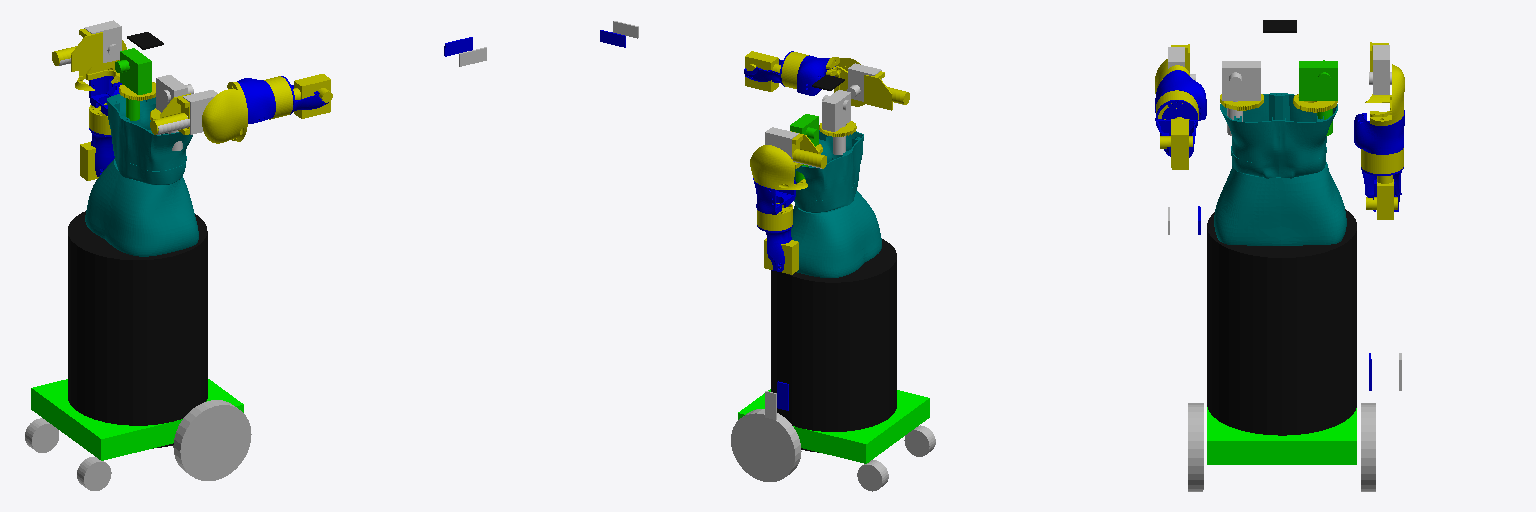
--- Render facts (derived) ---
The picture shows the robot from 3 angles, left to right: view 1: azimuth 30°, elevation 25°; view 2: azimuth 150°, elevation 25°; view 3: azimuth 270°, elevation 25°; orthographic projection.
Robot: robbie — 70 links, 69 joints (11 revolute, 58 fixed); root link base_link; default pose: every joint at zero.
Links seen in each view (by area): view 1: deck_link, waist_bottom, base_link, left_wheel, waist_left_mid, right_shoulder_lift2, left_shoulder_gear, left_shoulder_bracket, waist_right_mid, right_shoulder_mid, right_elbow_gearbox, right_shoulder_lift (+11 smaller); view 2: deck_link, waist_bottom, base_link, right_wheel, left_shoulder_lift2, waist_right_mid, right_shoulder_gear, right_shoulder_bracket, waist_left_mid, right_shoulder_mid, left_shoulder_mid, right_elbow_gearbox (+12 smaller); view 3: deck_link, waist_bottom, base_link, waist_left_mid, waist_right_mid, right_shoulder_gear, left_shoulder_gear, left_shoulder_mid, left_wheel, right_wheel, left_shoulder_lift2, right_elbow_gearbox (+8 smaller).
Link boxes in pixels (x1,y1,x2,y2): deck_link: (68,211,207,448); waist_bottom: (85,158,198,256); base_link: (31,379,243,460); left_wheel: (173,400,251,480); waist_left_mid: (123,118,192,170); right_shoulder_lift2: (202,82,247,143); left_shoulder_gear: (115,48,151,120); left_shoulder_bracket: (52,29,102,71); waist_right_mid: (107,94,167,158); right_shoulder_mid: (237,78,275,123); right_elbow_gearbox: (293,74,332,118); right_shoulder_lift: (156,90,217,134); deck_link: (771,239,896,452); waist_bottom: (791,191,881,277); base_link: (738,389,929,463); right_wheel: (731,409,801,481); left_shoulder_lift2: (750,145,807,189); waist_right_mid: (794,153,849,200); right_shoulder_gear: (822,90,850,154); right_shoulder_bracket: (864,71,909,110); waist_left_mid: (809,130,863,188); right_shoulder_mid: (797,55,835,95); left_shoulder_mid: (753,178,795,214); right_elbow_gearbox: (745,51,780,91); deck_link: (1207,209,1356,435); waist_bottom: (1214,162,1346,245); base_link: (1207,407,1356,464); waist_left_mid: (1220,93,1279,162); waist_right_mid: (1279,93,1337,163); right_shoulder_gear: (1222,61,1260,135); left_shoulder_gear: (1299,60,1337,135); left_shoulder_mid: (1354,110,1404,154); left_wheel: (1188,403,1203,491); right_wheel: (1361,403,1375,491); left_shoulder_lift2: (1365,64,1404,125); right_elbow_gearbox: (1160,117,1192,169).
Size in the robot's own frame: 1.09 by 0.5821 by 1.15 metres.
Meshes: 23 distinct files referenced, 23 mesh visuals loaded (15 binary STL); not drawn: 29 (reference not matched to a file when rendering).

The robot description file, URDF, robot "robbie":
<?xml version="1.0" ?>
<!-- =================================================================================== -->
<!-- |    This document was autogenerated by xacro from robbie7.xacro                  | -->
<!-- |    EDITING THIS FILE BY HAND IS NOT RECOMMENDED                                 | -->
<!-- =================================================================================== -->
<!-- XML namespaces -->
<robot name="robbie" xmlns:controller="http://playerstage.sourceforge.net/gazebo/xmlschema/#controller" xmlns:interface="http://playerstage.sourceforge.net/gazebo/xmlschema/#interface" xmlns:sensor="http://playerstage.sourceforge.net/gazebo/xmlschema/#sensor" xmlns:xacro="http://ros.org/wiki/xacro">
  <link name="base_link">
    <visual>
      <origin rpy="0 0 0" xyz="0 0 .135"/>
      <geometry>
        <box size="0.41 0.35 0.06"/>
      </geometry>
      <material name="green1">
        <color rgba="0 1 0 1.0"/>
      </material>
    </visual>
    <collision>
      <origin rpy="0 0 0" xyz="0 0 .135"/>
      <geometry>
        <box size="0.41 0.35 0.06"/>
      </geometry>
    </collision>
  </link>
  <gazebo reference="base_link">
    <material>Gazebo/FlatBlack</material>
    <selfCollide>false</selfCollide>
    <turnGravityOff>true</turnGravityOff>
  </gazebo>
  <link name="left_wheel">
    <visual>
      <origin rpy="1.57 0 0" xyz="0 0 0"/>
      <geometry>
        <cylinder length="0.035" radius="0.1025"/>
      </geometry>
      <material name="grey1">
        <color rgba="0.75 0.75 0.75 1.0"/>
      </material>
    </visual>
    <collision>
      <origin rpy="1.57 0 0" xyz="0 0 0"/>
      <geometry>
        <cylinder length="0.035" radius="0.1025"/>
      </geometry>
    </collision>
    <inertial>
      <mass value="0.1"/>
      <inertia ixx="0.001" ixy="0.0" ixz="0.0" iyy="0.001" iyz="0.0" izz="0.001"/>
    </inertial>
  </link>
  <gazebo reference="left_wheel">
    <material>Gazebo/Grey</material>
    <selfCollide>false</selfCollide>
    <turnGravityOff>true</turnGravityOff>
  </gazebo>
  <link name="right_wheel">
    <visual>
      <origin rpy="1.57 0 0" xyz="0 0 0"/>
      <geometry>
        <cylinder length="0.035" radius="0.1025"/>
      </geometry>
      <material name="grey1">
        <color rgba="0.75 0.75 0.75 1.0"/>
      </material>
    </visual>
    <collision>
      <origin rpy="1.57 0 0" xyz="0 0 0"/>
      <geometry>
        <cylinder length="0.035" radius="0.1025"/>
      </geometry>
    </collision>
    <inertial>
      <mass value="0.1"/>
      <inertia ixx="0.001" ixy="0.0" ixz="0.0" iyy="0.001" iyz="0.0" izz="0.001"/>
    </inertial>
  </link>
  <gazebo reference="right_wheel">
    <material>Gazebo/Grey</material>
    <selfCollide>false</selfCollide>
    <turnGravityOff>true</turnGravityOff>
  </gazebo>
  <link name="castor_wheel_l">
    <visual>
      <origin rpy="1.57 0 0" xyz="0 0 0"/>
      <geometry>
        <cylinder length="0.035" radius="0.04"/>
      </geometry>
      <material name="grey1">
        <color rgba="0.75 0.75 0.75 1.0"/>
      </material>
    </visual>
    <collision>
      <origin rpy="1.57 0 0" xyz="0 0 0"/>
      <geometry>
        <cylinder length="0.035" radius="0.04"/>
      </geometry>
    </collision>
    <inertial>
      <mass value="0.1"/>
      <inertia ixx="0.001" ixy="0.0" ixz="0.0" iyy="0.001" iyz="0.0" izz="0.001"/>
    </inertial>
  </link>
  <gazebo reference="castor_wheel_l">
    <material>Gazebo/Grey</material>
    <selfCollide>false</selfCollide>
    <turnGravityOff>true</turnGravityOff>
  </gazebo>
  <link name="castor_wheel_r">
    <visual>
      <origin rpy="1.57 0 0" xyz="0 0 0"/>
      <geometry>
        <cylinder length="0.035" radius="0.04"/>
      </geometry>
      <material name="grey1">
        <color rgba="0.75 0.75 0.75 1.0"/>
      </material>
    </visual>
    <collision>
      <origin rpy="1.57 0 0" xyz="0 0 0"/>
      <geometry>
        <cylinder length="0.035" radius="0.04"/>
      </geometry>
    </collision>
    <inertial>
      <mass value="0.1"/>
      <inertia ixx="0.001" ixy="0.0" ixz="0.0" iyy="0.001" iyz="0.0" izz="0.001"/>
    </inertial>
  </link>
  <gazebo reference="castor_wheel_r">
    <material>Gazebo/Grey</material>
    <selfCollide>false</selfCollide>
    <turnGravityOff>true</turnGravityOff>
  </gazebo>
  <link name="deck_link">
    <visual>
      <origin rpy="0 0 0" xyz="0.1 0 0"/>
      <geometry>
        <cylinder length="0.52" radius="0.175"/>
      </geometry>
      <material name="black">
        <color rgba="0.1 0.1 0.1 1.0"/>
      </material>
    </visual>
    <collision>
      <origin rpy="0 0 0" xyz="0.1 0 0"/>
      <geometry>
        <cylinder length="0.52" radius="0.175"/>
      </geometry>
    </collision>
    <inertial>
      <mass value="0.2"/>
      <inertia ixx="0.001" ixy="0.0" ixz="0.0" iyy="0.001" iyz="0.0" izz="0.001"/>
    </inertial>
  </link>
  <gazebo reference="deck_link">
    <material>Gazebo/grey</material>
    <selfCollide>false</selfCollide>
    <turnGravityOff>true</turnGravityOff>
  </gazebo>
  <!-- ##############################   upper torso   ##################333333-->
  <link name="upper_torso">
    <visual>
      <geometry>
        <mesh filename="package://robbie/meshes/upper_torso2.stl" scale="0.001 0.001 0.001"/>
      </geometry>
      <material name="green">
        <color rgba="0.1 0.8 0 0.8"/>
      </material>
      <origin rpy="0 0 1.57" xyz="0 0 0"/>
    </visual>
  </link>
  <link name="waist_bottom">
    <visual>
      <geometry>
        <mesh filename="package://robbie/meshes/bottom torso.stl" scale="0.001 0.001 0.001"/>
      </geometry>
      <material name="cyan3">
        <color rgba="0 0.5 0.5 1.0"/>
      </material>
      <origin rpy="1.57 0 1.57" xyz="-0.12 -0.29 -0.5"/>
    </visual>
  </link>
  <link name="waist_left">
    <visual>
      <geometry>
        <mesh filename="package://robbie/meshes/waist top lower left.stl" scale="0.001 0.001 0.001"/>
      </geometry>
      <material name="cyan3">
        <color rgba="0 0.5 0.5 1.0"/>
      </material>
      <origin rpy="0 3.14 3.14" xyz="0 0 0"/>
    </visual>
  </link>
  <link name="waist_right">
    <visual>
      <geometry>
        <mesh filename="package://robbie/meshes/waist top lower right.stl" scale="0.001 0.001 0.001"/>
      </geometry>
      <material name="cyan3">
        <color rgba="0 0.5 0.5 1.0"/>
      </material>
      <origin rpy="0 3.14 3.14" xyz="0 0 0"/>
    </visual>
  </link>
  <link name="waist_left_mid">
    <visual>
      <geometry>
        <mesh filename="package://robbie/meshes/waist top upper left.stl" scale="0.001 0.001 0.001"/>
      </geometry>
      <material name="cyan3">
        <color rgba="0 0.5 0.5 1.0"/>
      </material>
      <origin rpy="0 3.14 3.14" xyz="0 0 0"/>
    </visual>
  </link>
  <link name="waist_right_mid">
    <visual>
      <geometry>
        <mesh filename="package://robbie/meshes/waist top upper right.stl" scale="0.001 0.001 0.001"/>
      </geometry>
      <material name="cyan3">
        <color rgba="0 0.5 0.5 1.0"/>
      </material>
      <origin rpy="0 3.14 3.14" xyz="0 0 0"/>
    </visual>
  </link>
  <!-- ##############################   right arm ##################333333-->
  <link name="right_shoulder_gear">
    <visual>
      <geometry>
        <mesh filename="package://robbie/meshes/gear_box.stl" scale="0.001 0.001 0.001"/>
      </geometry>
      <material name="OffWhite">
        <color rgba="0.8 0.8 0.8 0.9"/>
      </material>
      <origin rpy="-1.57 0 1.57" xyz="0 0 0"/>
    </visual>
  </link>
  <link name="right_shoulder_pan">
    <visual>
      <geometry>
        <mesh filename="package://robbie/meshes/shoulder_pan_gear.stl" scale="0.001 0.001 0.001"/>
      </geometry>
      <material name="yellow2">
        <color rgba="0.8 0.8 0 1.0"/>
      </material>
      <origin rpy="0 0 -1.57" xyz="-0.05 0.05 0.0"/>
    </visual>
  </link>
  <link name="right_shoulder_tilt">
    <visual>
      <geometry>
        <mesh filename="package://robbie/meshes/elbow_pivot.stl" scale="0.001 0.001 0.001"/>
      </geometry>
      <material name="yellow2">
        <color rgba="0.8 0.8 0 1.0"/>
      </material>
      <origin rpy="0 0 1.57" xyz="-0.045 0.02 -0.03"/>
    </visual>
  </link>
  <link name="right_shoulder_bracket">
    <visual>
      <geometry>
        <mesh filename="package://robbie/meshes/shoulder_lift_bracket.stl" scale="0.001 0.001 0.001"/>
      </geometry>
      <material name="yellow2">
        <color rgba="0.8 0.8 0 1.0"/>
      </material>
      <origin rpy="0 1.57 1.57" xyz="0 0 0"/>
    </visual>
  </link>
  <link name="right_shoulder_lift">
    <visual>
      <geometry>
        <mesh filename="package://robbie/meshes/gear_box.stl" scale="0.001 0.001 0.001"/>
      </geometry>
      <material name="OffWhite">
        <color rgba="0.8 0.8 0.8 0.9"/>
      </material>
      <origin rpy="1.57 -1.57 0" xyz="0 0 0"/>
    </visual>
  </link>
  <link name="right_shoulder_lift2">
    <visual>
      <geometry>
        <mesh filename="package://robbie/meshes/arm_top_left.stl" scale="0.001 0.001 0.001"/>
      </geometry>
      <material name="yellow2">
        <color rgba="0.8 0.8 0 1.0"/>
      </material>
      <origin rpy="0 0 0" xyz="-0.105 0 -0.09"/>
    </visual>
  </link>
  <link name="right_shoulder_mid">
    <visual>
      <geometry>
        <mesh filename="package://robbie/meshes/right_arm _middle front.stl" scale="0.001 0.001 0.001"/>
      </geometry>
      <material name="blue1">
        <color rgba="0 0 0.9 1.0"/>
      </material>
      <origin rpy="0 3.14 0" xyz="0 0 0"/>
    </visual>
  </link>
  <link name="right_shoulder_lower">
    <visual>
      <geometry>
        <mesh filename="package://robbie/meshes/elbow_plug.stl" scale="0.001 0.001 0.001"/>
      </geometry>
      <material name="yellow2">
        <color rgba="0.8 0.8 0 1.0"/>
      </material>
      <origin rpy="0 0 0" xyz="-0.05 -0.05 0"/>
    </visual>
  </link>
  <link name="right_shoulder_elbow">
    <visual>
      <geometry>
        <mesh filename="package://robbie/meshes/right_arm lower top.stl" scale="0.001 0.001 0.001"/>
      </geometry>
      <material name="blue1">
        <color rgba="0 0 0.9 1.0"/>
      </material>
      <origin rpy="0 3.14 0" xyz="0 0 0"/>
    </visual>
  </link>
  <link name="right_elbow_gearbox">
    <visual>
      <geometry>
        <mesh filename="package://robbie/meshes/gear_box.stl" scale="0.001 0.001 0.001"/>
      </geometry>
      <material name="yellow2">
        <color rgba="0.8 0.8 0 1.0"/>
      </material>
      <origin rpy="1.57 0 3.14" xyz="0.06 -0.04 0"/>
    </visual>
  </link>
  <link name="right_elbow">
    <visual>
      <geometry>
        <mesh filename="package://robbie/meshes/elbow_pivot.stl" scale="0.001 0.001 0.001"/>
      </geometry>
      <material name="yellow2">
        <color rgba="0.8 0.8 0 1.0"/>
      </material>
      <origin rpy="3.14 0 0" xyz="0.025 -0.05 0.02"/>
    </visual>
  </link>
  <link name="right_forearm_link">
    <visual>
      <geometry>
        <mesh filename="package://robbie/meshes/fore_arm.stl" scale="0.001 0.001 0.001"/>
      </geometry>
      <material name="yellow2">
        <color rgba="0.8 0.8 0 1.0"/>
      </material>
      <origin rpy="0 -1.57 0" xyz="0 0 0"/>
    </visual>
  </link>
  <!-- wrist_pan_ joint-->
  <link name="wrist_pan_servo">
    <visual>
      <origin rpy="0 0 0" xyz="0 0 0"/>
      <geometry>
        <mesh filename="package://robbie/meshes/ax12_box2.stl" scale="0.001 0.001 0.001"/>
      </geometry>
      <material name="ax12_color">
        <color rgba="0.1 0.1 0.1 1.0"/>
      </material>
    </visual>
    <collision>
      <origin rpy="0 0 0" xyz="0 0 0"/>
      <geometry>
        <!--<box size="0.032 0.038 0.05" />-->
        <mesh filename="package://robbie/meshes/ax12_box2.stl" scale="0.001 0.001 0.001"/>
      </geometry>
    </collision>
    <inertial>
      <mass value="0.055"/>
      <inertia ixx="0.001" ixy="0.0" ixz="0.0" iyy="0.001" iyz="0.0" izz="0.001"/>
    </inertial>
  </link>
  <gazebo reference="wrist_pan_servo">
    <material>Gazebo/FlatBlack</material>
    <selfCollide>false</selfCollide>
    <turnGravityOff>true</turnGravityOff>
  </gazebo>
  <link name="wrist_pan_servo_bracket_f3">
    <visual>
      <origin rpy="1.57 0 0" xyz="0 0.005 0"/>
      <geometry>
        <mesh filename="package://robbie/meshes/F3.stl" scale="0.001 0.001 0.001"/>
      </geometry>
      <material name="grey1">
        <color rgba="0.75 0.75 0.75 1.0"/>
      </material>
      <material name="bracket_color">
        <color rgba="0.9 0.9 0.9 1.0"/>
      </material>
    </visual>
    <collision>
      <origin rpy="1.57 0 0" xyz="0 0.005 0"/>
      <geometry>
        <mesh filename="package://robbie/meshes/F3.stl" scale="0.001 0.001 0.001"/>
      </geometry>
    </collision>
    <inertial>
      <mass value="0.01"/>
      <inertia ixx="0.001" ixy="0.0" ixz="0.0" iyy="0.001" iyz="0.0" izz="0.001"/>
    </inertial>
  </link>
  <gazebo reference="wrist_pan_servo_bracket_f3">
    <material>Gazebo/WhiteEmissive</material>
    <selfCollide>false</selfCollide>
    <turnGravityOff>true</turnGravityOff>
  </gazebo>
  <!-- <xacro:F3_bracket name="wrist_pan_servo_bracket2_f3" xyz="0 0 0" rpy="0 -1.57 0" />-->
  <!-- wrist_tilt joint-->
  <link name="wrist_tilt_servo">
    <visual>
      <origin rpy="-1.57 0 0" xyz="-0.04 0.05 0"/>
      <geometry>
        <mesh filename="package://robbie/meshes/ax12_box2.stl" scale="0.001 0.001 0.001"/>
      </geometry>
      <material name="ax12_color">
        <color rgba="0.1 0.1 0.1 1.0"/>
      </material>
    </visual>
    <collision>
      <origin rpy="-1.57 0 0" xyz="-0.04 0.05 0"/>
      <geometry>
        <!--<box size="0.032 0.038 0.05" />-->
        <mesh filename="package://robbie/meshes/ax12_box2.stl" scale="0.001 0.001 0.001"/>
      </geometry>
    </collision>
    <inertial>
      <mass value="0.055"/>
      <inertia ixx="0.001" ixy="0.0" ixz="0.0" iyy="0.001" iyz="0.0" izz="0.001"/>
    </inertial>
  </link>
  <gazebo reference="wrist_tilt_servo">
    <material>Gazebo/FlatBlack</material>
    <selfCollide>false</selfCollide>
    <turnGravityOff>true</turnGravityOff>
  </gazebo>
  <link name="wrist_tilt_bracket_f2">
    <visual>
      <origin rpy="0 1.57 0" xyz="0 0 0"/>
      <geometry>
        <mesh filename="package://robbie/meshes/F2.stl" scale="0.001 0.001 0.001"/>
      </geometry>
      <material name="bracket_color">
        <color rgba="0.9 0.9 0.9 1.0"/>
      </material>
    </visual>
    <collision>
      <origin rpy="0 1.57 0" xyz="0 0 0"/>
      <geometry>
        <mesh filename="package://robbie/meshes/F2.stl" scale="0.001 0.001 0.001"/>
      </geometry>
    </collision>
    <inertial>
      <mass value="0.02"/>
      <inertia ixx="0.001" ixy="0.0" ixz="0.0" iyy="0.001" iyz="0.0" izz="0.001"/>
    </inertial>
  </link>
  <gazebo reference="wrist_tilt_bracket_f2">
    <material>Gazebo/WhiteEmissive</material>
    <selfCollide>false</selfCollide>
    <turnGravityOff>true</turnGravityOff>
  </gazebo>
  <!--here-->
  <link name="gripper_bracket_f3">
    <visual>
      <origin rpy="1.57 1.57 0" xyz="0 0 0"/>
      <geometry>
        <mesh filename="package://robbie/meshes/F3.stl" scale="0.001 0.001 0.001"/>
      </geometry>
      <material name="grey1">
        <color rgba="0.75 0.75 0.75 1.0"/>
      </material>
      <material name="bracket_color">
        <color rgba="0.9 0.9 0.9 1.0"/>
      </material>
    </visual>
    <collision>
      <origin rpy="1.57 1.57 0" xyz="0 0 0"/>
      <geometry>
        <mesh filename="package://robbie/meshes/F3.stl" scale="0.001 0.001 0.001"/>
      </geometry>
    </collision>
    <inertial>
      <mass value="0.01"/>
      <inertia ixx="0.001" ixy="0.0" ixz="0.0" iyy="0.001" iyz="0.0" izz="0.001"/>
    </inertial>
  </link>
  <gazebo reference="gripper_bracket_f3">
    <material>Gazebo/WhiteEmissive</material>
    <selfCollide>false</selfCollide>
    <turnGravityOff>true</turnGravityOff>
  </gazebo>
  <!-- Gripper_joint-->
  <link name="gripper_servo">
    <visual>
      <origin rpy="1.57 0 0" xyz="0 0 0"/>
      <geometry>
        <mesh filename="package://robbie/meshes/ax12_box2.stl" scale="0.001 0.001 0.001"/>
      </geometry>
      <material name="ax12_color">
        <color rgba="0.1 0.1 0.1 1.0"/>
      </material>
    </visual>
    <collision>
      <origin rpy="1.57 0 0" xyz="0 0 0"/>
      <geometry>
        <!--<box size="0.032 0.038 0.05" />-->
        <mesh filename="package://robbie/meshes/ax12_box2.stl" scale="0.001 0.001 0.001"/>
      </geometry>
    </collision>
    <inertial>
      <mass value="0.055"/>
      <inertia ixx="0.001" ixy="0.0" ixz="0.0" iyy="0.001" iyz="0.0" izz="0.001"/>
    </inertial>
  </link>
  <gazebo reference="gripper_servo">
    <material>Gazebo/FlatBlack</material>
    <selfCollide>false</selfCollide>
    <turnGravityOff>true</turnGravityOff>
  </gazebo>
  <link name="gripper_bracket_f2">
    <visual>
      <origin rpy="0 0 1.57" xyz="0 0 0"/>
      <geometry>
        <mesh filename="package://robbie/meshes/F2.stl" scale="0.001 0.001 0.001"/>
      </geometry>
      <material name="bracket_color">
        <color rgba="0.9 0.9 0.9 1.0"/>
      </material>
    </visual>
    <collision>
      <origin rpy="0 0 1.57" xyz="0 0 0"/>
      <geometry>
        <mesh filename="package://robbie/meshes/F2.stl" scale="0.001 0.001 0.001"/>
      </geometry>
    </collision>
    <inertial>
      <mass value="0.02"/>
      <inertia ixx="0.001" ixy="0.0" ixz="0.0" iyy="0.001" iyz="0.0" izz="0.001"/>
    </inertial>
  </link>
  <gazebo reference="gripper_bracket_f2">
    <material>Gazebo/WhiteEmissive</material>
    <selfCollide>false</selfCollide>
    <turnGravityOff>true</turnGravityOff>
  </gazebo>
  <link name="right_finger_link">
    <visual>
      <origin rpy="1.57 0 1.57" xyz="0 0 0"/>
      <geometry>
        <box size="-0.08 0.005 0.035"/>
      </geometry>
      <material name="grey3">
        <color rgba="0.8 0.8 0.8 1.0"/>
      </material>
    </visual>
    <collision>
      <origin rpy="1.57 0 1.57" xyz="0 0 0"/>
      <geometry>
        <box size="-0.08 0.005 0.035"/>
      </geometry>
    </collision>
  </link>
  <gazebo reference="right_finger_link">
    <material>Gazebo/FlatBlack</material>
    <selfCollide>false</selfCollide>
    <turnGravityOff>true</turnGravityOff>
  </gazebo>
  <link name="left_finger_link">
    <visual>
      <origin rpy="1.57 0 1.57" xyz="0 0 0"/>
      <geometry>
        <box size="0.08 0.005 0.035"/>
      </geometry>
      <material name="blue1">
        <color rgba="0 0 0.9 1.0"/>
      </material>
    </visual>
    <collision>
      <origin rpy="1.57 0 1.57" xyz="0 0 0"/>
      <geometry>
        <box size="0.08 0.005 0.035"/>
      </geometry>
    </collision>
  </link>
  <gazebo reference="left_finger_link">
    <material>Gazebo/FlatBlack</material>
    <selfCollide>false</selfCollide>
    <turnGravityOff>true</turnGravityOff>
  </gazebo>
  <!--##########################left arm#############################-->
  <link name="left_shoulder_gear">
    <visual>
      <geometry>
        <mesh filename="package://robbie/meshes/gear_box.stl" scale="0.001 0.001 0.001"/>
      </geometry>
      <material name="green">
        <color rgba="0.1 0.8 0 0.8"/>
      </material>
      <origin rpy="-1.57 0 -1.57" xyz="0 0 0"/>
    </visual>
  </link>
  <link name="left_shoulder_pan">
    <visual>
      <geometry>
        <mesh filename="package://robbie/meshes/shoulder_pan_gear.stl" scale="0.001 0.001 0.001"/>
      </geometry>
      <material name="yellow2">
        <color rgba="0.8 0.8 0 1.0"/>
      </material>
      <origin rpy="0 0 -1.57" xyz="-0.05 0.05 0.0"/>
    </visual>
  </link>
  <link name="left_shoulder_tilt">
    <visual>
      <geometry>
        <mesh filename="package://robbie/meshes/elbow_pivot.stl" scale="0.001 0.001 0.001"/>
      </geometry>
      <material name="yellow2">
        <color rgba="0.8 0.8 0 1.0"/>
      </material>
      <origin rpy="0 0 -1.57" xyz="0.045 -0.02 -0.03"/>
    </visual>
  </link>
  <link name="left_shoulder_bracket">
    <visual>
      <geometry>
        <mesh filename="package://robbie/meshes/shoulder_lift_bracket_left.stl" scale="0.001 0.001 0.001"/>
      </geometry>
      <material name="yellow2">
        <color rgba="0.8 0.8 0 1.0"/>
      </material>
      <origin rpy="0 0 1.57" xyz="0 0 0"/>
    </visual>
  </link>
  <link name="left_shoulder_lift">
    <visual>
      <geometry>
        <mesh filename="package://robbie/meshes/gear_box.stl" scale="0.001 0.001 0.001"/>
      </geometry>
      <material name="OffWhite">
        <color rgba="0.8 0.8 0.8 0.9"/>
      </material>
      <origin rpy="1.57 -1.57 0" xyz="0 0 0"/>
    </visual>
  </link>
  <link name="left_shoulder_lift2">
    <visual>
      <geometry>
        <mesh filename="package://robbie/meshes/left_top_shoulder.stl" scale="0.001 0.001 0.001"/>
      </geometry>
      <material name="yellow2">
        <color rgba="0.8 0.8 0 1.0"/>
      </material>
      <origin rpy="0 0 3.14" xyz="0.08 0.07 -0.095"/>
    </visual>
  </link>
  <link name="left_shoulder_mid">
    <visual>
      <geometry>
        <mesh filename="package://robbie/meshes/left_mid_front.stl" scale="0.001 0.001 0.001"/>
      </geometry>
      <material name="blue1">
        <color rgba="0 0 0.9 1.0"/>
      </material>
      <origin rpy="0 3.14 3.14" xyz="0 0 0"/>
    </visual>
  </link>
  <link name="left_shoulder_lower">
    <visual>
      <geometry>
        <mesh filename="package://robbie/meshes/elbow_plug.stl" scale="0.001 0.001 0.001"/>
      </geometry>
      <material name="yellow2">
        <color rgba="0.8 0.8 0 1.0"/>
      </material>
      <origin rpy="0 0 0" xyz="-0.05 -0.05 0"/>
    </visual>
  </link>
  <link name="left_shoulder_elbow">
    <visual>
      <geometry>
        <mesh filename="package://robbie/meshes/right_arm lower top.stl" scale="0.001 0.001 0.001"/>
      </geometry>
      <material name="blue1">
        <color rgba="0 0 0.9 1.0"/>
      </material>
      <origin rpy="0 3.14 0" xyz="0 0 0"/>
    </visual>
  </link>
  <link name="left_elbow_gearbox">
    <visual>
      <geometry>
        <mesh filename="package://robbie/meshes/gear_box.stl" scale="0.001 0.001 0.001"/>
      </geometry>
      <material name="yellow2">
        <color rgba="0.8 0.8 0 1.0"/>
      </material>
      <origin rpy="1.57 0 3.14" xyz="0.06 -0.04 0"/>
    </visual>
  </link>
  <link name="left_elbow">
    <visual>
      <geometry>
        <mesh filename="package://robbie/meshes/elbow_pivot.stl" scale="0.001 0.001 0.001"/>
      </geometry>
      <material name="yellow2">
        <color rgba="0.8 0.8 0 1.0"/>
      </material>
      <origin rpy="3.14 0 0" xyz="0.025 -0.05 0.02"/>
    </visual>
  </link>
  <link name="left_forearm_link">
    <visual>
      <geometry>
        <mesh filename="package://robbie/meshes/fore_arm.stl" scale="0.001 0.001 0.001"/>
      </geometry>
      <material name="yellow2">
        <color rgba="0.8 0.8 0 1.0"/>
      </material>
      <origin rpy="0 -1.57 0" xyz="0 0 0"/>
    </visual>
  </link>
  <!-- left_wrist_pan_ joint-->
  <link name="left_wrist_pan_servo">
    <visual>
      <origin rpy="0 0 0" xyz="0 0 0"/>
      <geometry>
        <mesh filename="package://robbie/meshes/ax12_box2.stl" scale="0.001 0.001 0.001"/>
      </geometry>
      <material name="ax12_color">
        <color rgba="0.1 0.1 0.1 1.0"/>
      </material>
    </visual>
    <collision>
      <origin rpy="0 0 0" xyz="0 0 0"/>
      <geometry>
        <!--<box size="0.032 0.038 0.05" />-->
        <mesh filename="package://robbie/meshes/ax12_box2.stl" scale="0.001 0.001 0.001"/>
      </geometry>
    </collision>
    <inertial>
      <mass value="0.055"/>
      <inertia ixx="0.001" ixy="0.0" ixz="0.0" iyy="0.001" iyz="0.0" izz="0.001"/>
    </inertial>
  </link>
  <gazebo reference="left_wrist_pan_servo">
    <material>Gazebo/FlatBlack</material>
    <selfCollide>false</selfCollide>
    <turnGravityOff>true</turnGravityOff>
  </gazebo>
  <link name="left_wrist_pan_servo_bracket_f3">
    <visual>
      <origin rpy="1.57 0 0" xyz="0 0.005 0"/>
      <geometry>
        <mesh filename="package://robbie/meshes/F3.stl" scale="0.001 0.001 0.001"/>
      </geometry>
      <material name="grey1">
        <color rgba="0.75 0.75 0.75 1.0"/>
      </material>
      <material name="bracket_color">
        <color rgba="0.9 0.9 0.9 1.0"/>
      </material>
    </visual>
    <collision>
      <origin rpy="1.57 0 0" xyz="0 0.005 0"/>
      <geometry>
        <mesh filename="package://robbie/meshes/F3.stl" scale="0.001 0.001 0.001"/>
      </geometry>
    </collision>
    <inertial>
      <mass value="0.01"/>
      <inertia ixx="0.001" ixy="0.0" ixz="0.0" iyy="0.001" iyz="0.0" izz="0.001"/>
    </inertial>
  </link>
  <gazebo reference="left_wrist_pan_servo_bracket_f3">
    <material>Gazebo/WhiteEmissive</material>
    <selfCollide>false</selfCollide>
    <turnGravityOff>true</turnGravityOff>
  </gazebo>
  <!-- <xacro:F3_bracket name="left_wrist_pan_servo_bracket2_f3" xyz="0 0 0" rpy="0 -1.57 0" />-->
  <!-- left_wrist_tilt joint-->
  <link name="left_wrist_tilt_servo">
    <visual>
      <origin rpy="-1.57 0 0" xyz="-0.04 0.05 0"/>
      <geometry>
        <mesh filename="package://robbie/meshes/ax12_box2.stl" scale="0.001 0.001 0.001"/>
      </geometry>
      <material name="ax12_color">
        <color rgba="0.1 0.1 0.1 1.0"/>
      </material>
    </visual>
    <collision>
      <origin rpy="-1.57 0 0" xyz="-0.04 0.05 0"/>
      <geometry>
        <!--<box size="0.032 0.038 0.05" />-->
        <mesh filename="package://robbie/meshes/ax12_box2.stl" scale="0.001 0.001 0.001"/>
      </geometry>
    </collision>
    <inertial>
      <mass value="0.055"/>
      <inertia ixx="0.001" ixy="0.0" ixz="0.0" iyy="0.001" iyz="0.0" izz="0.001"/>
    </inertial>
  </link>
  <gazebo reference="left_wrist_tilt_servo">
    <material>Gazebo/FlatBlack</material>
    <selfCollide>false</selfCollide>
    <turnGravityOff>true</turnGravityOff>
  </gazebo>
  <link name="left_wrist_tilt_bracket_f2">
    <visual>
      <origin rpy="-1.57 0 0" xyz="0 0 0"/>
      <geometry>
        <mesh filename="package://robbie/meshes/F2.stl" scale="0.001 0.001 0.001"/>
      </geometry>
      <material name="bracket_color">
        <color rgba="0.9 0.9 0.9 1.0"/>
      </material>
    </visual>
    <collision>
      <origin rpy="-1.57 0 0" xyz="0 0 0"/>
      <geometry>
        <mesh filename="package://robbie/meshes/F2.stl" scale="0.001 0.001 0.001"/>
      </geometry>
    </collision>
    <inertial>
      <mass value="0.02"/>
      <inertia ixx="0.001" ixy="0.0" ixz="0.0" iyy="0.001" iyz="0.0" izz="0.001"/>
    </inertial>
  </link>
  <gazebo reference="left_wrist_tilt_bracket_f2">
    <material>Gazebo/WhiteEmissive</material>
    <selfCollide>false</selfCollide>
    <turnGravityOff>true</turnGravityOff>
  </gazebo>
  <link name="left_gripper_bracket_f3">
    <visual>
      <origin rpy="1.57 1.57 0" xyz="0 0 0"/>
      <geometry>
        <mesh filename="package://robbie/meshes/F3.stl" scale="0.001 0.001 0.001"/>
      </geometry>
      <material name="grey1">
        <color rgba="0.75 0.75 0.75 1.0"/>
      </material>
      <material name="bracket_color">
        <color rgba="0.9 0.9 0.9 1.0"/>
      </material>
    </visual>
    <collision>
      <origin rpy="1.57 1.57 0" xyz="0 0 0"/>
      <geometry>
        <mesh filename="package://robbie/meshes/F3.stl" scale="0.001 0.001 0.001"/>
      </geometry>
    </collision>
    <inertial>
      <mass value="0.01"/>
      <inertia ixx="0.001" ixy="0.0" ixz="0.0" iyy="0.001" iyz="0.0" izz="0.001"/>
    </inertial>
  </link>
  <gazebo reference="left_gripper_bracket_f3">
    <material>Gazebo/WhiteEmissive</material>
    <selfCollide>false</selfCollide>
    <turnGravityOff>true</turnGravityOff>
  </gazebo>
  <!-- left_Gripper_joint-->
  <link name="left_gripper_servo">
    <visual>
      <origin rpy="0 0 -1.57" xyz="0 0 0"/>
      <geometry>
        <mesh filename="package://robbie/meshes/ax12_box2.stl" scale="0.001 0.001 0.001"/>
      </geometry>
      <material name="ax12_color">
        <color rgba="0.1 0.1 0.1 1.0"/>
      </material>
    </visual>
    <collision>
      <origin rpy="0 0 -1.57" xyz="0 0 0"/>
      <geometry>
        <!--<box size="0.032 0.038 0.05" />-->
        <mesh filename="package://robbie/meshes/ax12_box2.stl" scale="0.001 0.001 0.001"/>
      </geometry>
    </collision>
    <inertial>
      <mass value="0.055"/>
      <inertia ixx="0.001" ixy="0.0" ixz="0.0" iyy="0.001" iyz="0.0" izz="0.001"/>
    </inertial>
  </link>
  <gazebo reference="left_gripper_servo">
    <material>Gazebo/FlatBlack</material>
    <selfCollide>false</selfCollide>
    <turnGravityOff>true</turnGravityOff>
  </gazebo>
  <link name="left_gripper_bracket_f2">
    <visual>
      <origin rpy="0 0 1.57" xyz="0 0 0"/>
      <geometry>
        <mesh filename="package://robbie/meshes/F2.stl" scale="0.001 0.001 0.001"/>
      </geometry>
      <material name="bracket_color">
        <color rgba="0.9 0.9 0.9 1.0"/>
      </material>
    </visual>
    <collision>
      <origin rpy="0 0 1.57" xyz="0 0 0"/>
      <geometry>
        <mesh filename="package://robbie/meshes/F2.stl" scale="0.001 0.001 0.001"/>
      </geometry>
    </collision>
    <inertial>
      <mass value="0.02"/>
      <inertia ixx="0.001" ixy="0.0" ixz="0.0" iyy="0.001" iyz="0.0" izz="0.001"/>
    </inertial>
  </link>
  <gazebo reference="left_gripper_bracket_f2">
    <material>Gazebo/WhiteEmissive</material>
    <selfCollide>false</selfCollide>
    <turnGravityOff>true</turnGravityOff>
  </gazebo>
  <link name="left_right_finger_link">
    <visual>
      <origin rpy="1.57 0 1.57" xyz="0 0 0"/>
      <geometry>
        <box size="-0.08 0.005 0.035"/>
      </geometry>
      <material name="grey3">
        <color rgba="0.8 0.8 0.8 1.0"/>
      </material>
    </visual>
    <collision>
      <origin rpy="1.57 0 1.57" xyz="0 0 0"/>
      <geometry>
        <box size="-0.08 0.005 0.035"/>
      </geometry>
    </collision>
  </link>
  <gazebo reference="left_right_finger_link">
    <material>Gazebo/FlatBlack</material>
    <selfCollide>false</selfCollide>
    <turnGravityOff>true</turnGravityOff>
  </gazebo>
  <link name="left_left_finger_link">
    <visual>
      <origin rpy="1.57 0 1.57" xyz="0 0 0"/>
      <geometry>
        <box size="0.08 0.005 0.035"/>
      </geometry>
      <material name="blue1">
        <color rgba="0 0 0.9 1.0"/>
      </material>
    </visual>
    <collision>
      <origin rpy="1.57 0 1.57" xyz="0 0 0"/>
      <geometry>
        <box size="0.08 0.005 0.035"/>
      </geometry>
    </collision>
  </link>
  <gazebo reference="left_left_finger_link">
    <material>Gazebo/FlatBlack</material>
    <selfCollide>false</selfCollide>
    <turnGravityOff>true</turnGravityOff>
  </gazebo>
  <!-- head details-->
  <link name="head_tilt_bracket">
    <visual>
      <origin rpy="0 3.1415 0" xyz="0 0 0"/>
      <geometry>
        <mesh filename="package://robbie/meshes/F2.stl" scale="0.001 0.001 0.001"/>
      </geometry>
      <material name="bracket_color">
        <color rgba="0.9 0.9 0.9 1.0"/>
      </material>
    </visual>
    <collision>
      <origin rpy="0 3.1415 0" xyz="0 0 0"/>
      <geometry>
        <mesh filename="package://robbie/meshes/F2.stl" scale="0.001 0.001 0.001"/>
      </geometry>
    </collision>
    <inertial>
      <mass value="0.02"/>
      <inertia ixx="0.001" ixy="0.0" ixz="0.0" iyy="0.001" iyz="0.0" izz="0.001"/>
    </inertial>
  </link>
  <gazebo reference="head_tilt_bracket">
    <material>Gazebo/WhiteEmissive</material>
    <selfCollide>false</selfCollide>
    <turnGravityOff>true</turnGravityOff>
  </gazebo>
  <link name="head_tilt_link">
    <visual>
      <origin rpy="3.1415 0 0" xyz="0 0 0"/>
      <geometry>
        <mesh filename="package://robbie/meshes/ax12_box2.stl" scale="0.001 0.001 0.001"/>
      </geometry>
      <material name="ax12_color">
        <color rgba="0.1 0.1 0.1 1.0"/>
      </material>
    </visual>
    <collision>
      <origin rpy="3.1415 0 0" xyz="0 0 0"/>
      <geometry>
        <!--<box size="0.032 0.038 0.05" />-->
        <mesh filename="package://robbie/meshes/ax12_box2.stl" scale="0.001 0.001 0.001"/>
      </geometry>
    </collision>
    <inertial>
      <mass value="0.055"/>
      <inertia ixx="0.001" ixy="0.0" ixz="0.0" iyy="0.001" iyz="0.0" izz="0.001"/>
    </inertial>
  </link>
  <gazebo reference="head_tilt_link">
    <material>Gazebo/FlatBlack</material>
    <selfCollide>false</selfCollide>
    <turnGravityOff>true</turnGravityOff>
  </gazebo>
  <link name="head_pan_bracket">
    <visual>
      <origin rpy="0 0 0" xyz="0 0 0"/>
      <geometry>
        <mesh filename="package://robbie/meshes/F3.stl" scale="0.001 0.001 0.001"/>
      </geometry>
      <material name="grey1">
        <color rgba="0.75 0.75 0.75 1.0"/>
      </material>
      <material name="bracket_color">
        <color rgba="0.9 0.9 0.9 1.0"/>
      </material>
    </visual>
    <collision>
      <origin rpy="0 0 0" xyz="0 0 0"/>
      <geometry>
        <mesh filename="package://robbie/meshes/F3.stl" scale="0.001 0.001 0.001"/>
      </geometry>
    </collision>
    <inertial>
      <mass value="0.01"/>
      <inertia ixx="0.001" ixy="0.0" ixz="0.0" iyy="0.001" iyz="0.0" izz="0.001"/>
    </inertial>
  </link>
  <gazebo reference="head_pan_bracket">
    <material>Gazebo/WhiteEmissive</material>
    <selfCollide>false</selfCollide>
    <turnGravityOff>true</turnGravityOff>
  </gazebo>
  <link name="head_pan_link">
    <visual>
      <origin rpy=" 1.57 0 1.57" xyz="0 0 0"/>
      <geometry>
        <mesh filename="package://robbie/meshes/ax12_box2.stl" scale="0.001 0.001 0.001"/>
      </geometry>
      <material name="ax12_color">
        <color rgba="0.1 0.1 0.1 1.0"/>
      </material>
    </visual>
    <collision>
      <origin rpy=" 1.57 0 1.57" xyz="0 0 0"/>
      <geometry>
        <!--<box size="0.032 0.038 0.05" />-->
        <mesh filename="package://robbie/meshes/ax12_box2.stl" scale="0.001 0.001 0.001"/>
      </geometry>
    </collision>
    <inertial>
      <mass value="0.055"/>
      <inertia ixx="0.001" ixy="0.0" ixz="0.0" iyy="0.001" iyz="0.0" izz="0.001"/>
    </inertial>
  </link>
  <gazebo reference="head_pan_link">
    <material>Gazebo/FlatBlack</material>
    <selfCollide>false</selfCollide>
    <turnGravityOff>true</turnGravityOff>
  </gazebo>
  <link name="neck_link">
    <visual>
      <origin rpy="1.57 0 -1.570" xyz="0 0 0"/>
      <geometry>
        <mesh filename="package://robbie/meshes/F3.stl" scale="0.001 0.001 0.001"/>
      </geometry>
      <material name="grey1">
        <color rgba="0.75 0.75 0.75 1.0"/>
      </material>
      <material name="bracket_color">
        <color rgba="0.9 0.9 0.9 1.0"/>
      </material>
    </visual>
    <collision>
      <origin rpy="1.57 0 -1.570" xyz="0 0 0"/>
      <geometry>
        <mesh filename="package://robbie/meshes/F3.stl" scale="0.001 0.001 0.001"/>
      </geometry>
    </collision>
    <inertial>
      <mass value="0.01"/>
      <inertia ixx="0.001" ixy="0.0" ixz="0.0" iyy="0.001" iyz="0.0" izz="0.001"/>
    </inertial>
  </link>
  <gazebo reference="neck_link">
    <material>Gazebo/WhiteEmissive</material>
    <selfCollide>false</selfCollide>
    <turnGravityOff>true</turnGravityOff>
  </gazebo>
  <link name="head_base_link">
    <visual>
      <origin rpy="0 0 0" xyz="0 0 0"/>
      <geometry>
        <box size="0.06 0.08 0.005"/>
      </geometry>
      <material name="black">
        <color rgba="0.1 0.1 0.1 1.0"/>
      </material>
    </visual>
    <collision>
      <origin rpy="0 0 0" xyz="0 0 0"/>
      <geometry>
        <box size="0.06 0.08 0.005"/>
      </geometry>
    </collision>
  </link>
  <gazebo reference="head_base_link">
    <material>Gazebo/FlatBlack</material>
    <selfCollide>false</selfCollide>
    <turnGravityOff>true</turnGravityOff>
  </gazebo>
  <link name="head_link">
    <visual>
      <geometry>
        <mesh filename="package://robbie/meshes/head.stl" scale="0.001 0.001 0.001"/>
      </geometry>
      <material name="grey1">
        <color rgba="0.75 0.75 0.75 1.0"/>
      </material>
      <origin rpy="1.57 0 1.57" xyz="0 0 0"/>
    </visual>
  </link>
  <link name="head_link_fake">
    <inertial>
      <mass value="0.0001"/>
      <origin xyz="0 0 0"/>
      <inertia ixx="0.0001" ixy="0.0" ixz="0.0" iyy="0.0001" iyz="0.0" izz="0.0001"/>
    </inertial>
  </link>
  <link name="kinect_link">
    <inertial>
      <mass value="1.0"/>
      <origin xyz="0 0 0"/>
      <inertia ixx="1.0" ixy="0.0" ixz="0.0" iyy="1.0" iyz="0.0" izz="1.0"/>
    </inertial>
    <visual>
      <origin rpy="0 0 0" xyz=" 0 0 0 "/>
      <geometry>
        <mesh filename="package://robbie/meshes/kinect.stl" scale="0.001 0.001 0.001"/>
      </geometry>
      <material name="ax12_color">
        <color rgba="0.1 0.1 0.1 1.0"/>
      </material>
    </visual>
    <collision>
      <origin rpy="0 0 0" xyz="0 0 0"/>
      <geometry>
        <mesh filename="package://robbie/meshes/kinect.stl" scale="0.001 0.001 0.001"/>
      </geometry>
    </collision>
  </link>
  <link name="head_cam_link">
    <inertial>
      <mass value="1.0"/>
      <origin xyz="0 0 0"/>
      <inertia ixx="1.0" ixy="0.0" ixz="0.0" iyy="1.0" iyz="0.0" izz="1.0"/>
    </inertial>
    <visual>
      <origin rpy="0 0 0" xyz=" 0 0 0 "/>
      <geometry>
        <mesh filename="package://robbie/meshes/kinect.stl" scale="0.001 0.001 0.001"/>
      </geometry>
      <material name="grey3">
        <color rgba="0.8 0.8 0.8 1.0"/>
      </material>
    </visual>
    <collision>
      <origin rpy="0 0 0" xyz="0 0 0"/>
      <geometry>
        <mesh filename="package://robbie/meshes/kinect.stl" scale="0.001 0.001 0.001"/>
      </geometry>
    </collision>
  </link>
  <!-- =================== Joint Definitions ==================== -->
  <joint name="base_link_joint" type="fixed">
    <parent link="base_link"/>
    <child link="deck_link"/>
    <origin rpy="0 0 0" xyz="-0.10 0 .36"/>
  </joint>
  <joint name="left_wheel_joint" type="fixed">
    <parent link="base_link"/>
    <child link="left_wheel"/>
    <origin rpy="0 0 0" xyz="0.1 -0.2 0.1"/>
  </joint>
  <joint name="right_wheel_joint" type="fixed">
    <parent link="base_link"/>
    <child link="right_wheel"/>
    <origin rpy="0 0 0" xyz="0.1 0.2 0.1"/>
  </joint>
  <joint name="castor_wheel_joint_l" type="fixed">
    <parent link="base_link"/>
    <child link="castor_wheel_l"/>
    <origin rpy="0 0 0" xyz="-0.20 -0.13 0.05"/>
  </joint>
  <joint name="castor_wheel_joint_r" type="fixed">
    <parent link="base_link"/>
    <child link="castor_wheel_r"/>
    <origin rpy="0 0 0" xyz="-0.20 0.13 0.05"/>
  </joint>
  <!--#################  Upper torso#############################-->
  <joint name="waist_link" type="fixed">
    <parent link="deck_link"/>
    <child link="waist_bottom"/>
    <origin rpy="0 0 0" xyz="-0 0 0"/>
  </joint>
  <joint name="waist_upper_link" type="fixed">
    <parent link="deck_link"/>
    <child link="upper_torso"/>
    <origin rpy="0 0 0" xyz="0.19 -0.14 0.59"/>
  </joint>
  <joint name="waist_left_link" type="fixed">
    <parent link="waist_bottom"/>
    <child link="waist_left"/>
    <origin rpy="0 0 0" xyz="0.051 0 0.58"/>
  </joint>
  <joint name="waist_right_link" type="fixed">
    <parent link="waist_bottom"/>
    <child link="waist_right"/>
    <origin rpy="0 0 0" xyz="0.05 0.109 0.58"/>
  </joint>
  <joint name="waist_left_upper_link" type="fixed">
    <parent link="waist_left"/>
    <child link="waist_left_mid"/>
    <origin rpy="0 0 0" xyz="0.0 0.02 0.005"/>
  </joint>
  <joint name="waist_right_upper_link" type="fixed">
    <parent link="waist_right"/>
    <child link="waist_right_mid"/>
    <origin rpy="0 0 0" xyz="0.0 0.03 0.01"/>
  </joint>
  <!--###########################right arm############################################3-->
  <joint name="right_arm_pan_joint" type="revolute">
    <parent link="upper_torso"/>
    <child link="right_shoulder_pan"/>
    <origin rpy="0  0 0" xyz="-0.05 0.05 0.0"/>
    <axis xyz="0 0 1"/>
    <limit effort="10" lower="-0.80" upper="0.80" velocity="0"/>
  </joint>
  <joint name="right_shoulder_link" type="fixed">
    <parent link="right_shoulder_pan"/>
    <child link="right_shoulder_gear"/>
    <origin rpy="0 0 0" xyz="0.025 -0.05 0.105"/>
  </joint>
  <joint name="right_arm_tilt_joint" type="revolute">
    <parent link="right_shoulder_gear"/>
    <child link="right_shoulder_tilt"/>
    <origin rpy="0 0 0" xyz="-0.02 0.03 -0.03"/>
    <axis xyz="1 0 0"/>
    <limit effort="10" lower="-0.82" upper="0" velocity="0"/>
  </joint>
  <joint name="right_shoulder_lift_bracket_link" type="fixed">
    <parent link="right_shoulder_tilt"/>
    <child link="right_shoulder_bracket"/>
    <origin rpy="0 0 0" xyz="0.01 -0.145 0.02"/>
  </joint>
  <joint name="right_shoulder_lift_gearbox_link" type="fixed">
    <parent link="right_shoulder_bracket"/>
    <child link="right_shoulder_lift"/>
    <origin rpy="0 0 0" xyz="0.03 0.03 -0.055"/>
  </joint>
  <joint name="right_arm_lift_joint" type="revolute">
    <parent link="right_shoulder_lift"/>
    <child link="right_shoulder_lift2"/>
    <origin rpy="0 -1.57 0" xyz="-0.025 -0.075 0.035"/>
    <axis xyz="0 1 0"/>
    <limit effort="10" lower="-1.1" upper="1.9" velocity="0"/>
  </joint>
  <joint name="right_shoulder_mid_link" type="fixed">
    <parent link="right_shoulder_lift2"/>
    <child link="right_shoulder_mid"/>
    <origin rpy="0 0 0" xyz="0.07 0.001 -0.088"/>
  </joint>
  <joint name="right_arm_rotate_joint" type="revolute">
    <parent link="right_shoulder_mid"/>
    <child link="right_shoulder_lower"/>
    <origin rpy="0 0 0" xyz="-0.07 0.052 -0.131"/>
    <axis xyz="0 0 1"/>
    <limit effort="10" lower="-1.57" upper="1.57" velocity="0"/>
  </joint>
  <joint name="right_shoulder_elbow_link" type="fixed">
    <parent link="right_shoulder_lower"/>
    <child link="right_shoulder_elbow"/>
    <origin rpy="0 0 0" xyz="0.05 -0.05 0"/>
  </joint>
  <joint name="right_elbow_gearbox_link" type="fixed">
    <parent link="right_shoulder_elbow"/>
    <child link="right_elbow_gearbox"/>
    <origin rpy="0 0 0" xyz="-0.09 0.08 -0.13"/>
  </joint>
  <joint name="right_arm_elbow_joint" type="revolute">
    <parent link="right_elbow_gearbox"/>
    <child link="right_elbow"/>
    <origin rpy="0 -1.57 0" xyz="0.03 -0.02 0.025"/>
    <axis xyz="0 1 0"/>
    <limit effort="10" lower="-2.00" upper="0.57" velocity="0"/>
  </joint>
  <joint name="right_arm_forearm_link" type="fixed">
    <parent link="right_elbow"/>
    <child link="right_forearm_link"/>
    <origin rpy="1.57 0 0" xyz="-0.08 -0.0 -0.0"/>
  </joint>
  <!--right_arm_wrist_pan_joint-->
  <joint name="right_arm_wrist_pan_bracket" type="fixed">
    <parent link="right_forearm_link"/>
    <child link="wrist_pan_servo"/>
    <origin rpy="0 0 1.57" xyz="-0.21 0.0 0.0"/>
  </joint>
  <joint name="right_arm_wrist_pan_joint" type="revolute">
    <parent link="wrist_pan_servo"/>
    <child link="wrist_pan_servo_bracket_f3"/>
    <origin rpy="0 0 0" xyz="0. 0.015 0.0"/>
    <axis xyz="0 1 0"/>
    <limit effort="10" lower="-2.61" upper="2.61" velocity="0"/>
    <dynamics damping="0.0"/>
  </joint>
  <joint name="right_arm_wrist_tilt_bracket" type="fixed">
    <parent link="wrist_pan_servo_bracket_f3"/>
    <child link="wrist_tilt_servo"/>
    <origin rpy="0 0 0" xyz="0.04 0 0.0"/>
    <axis xyz="1 0 0"/>
  </joint>
  <!--wrist_tilt_joint-->
  <joint name="right_arm_wrist_tilt_joint" type="revolute">
    <parent link="wrist_tilt_servo"/>
    <child link="wrist_tilt_bracket_f2"/>
    <origin rpy="-1.57 0 1.57" xyz="-0.04 0.05 0"/>
    <axis xyz="0 1 0"/>
    <limit effort="10" lower="-1.57" upper="1.57" velocity="0"/>
    <dynamics damping="0.0"/>
  </joint>
  <joint name="right_arm_gripper_bracket" type="fixed">
    <parent link="wrist_tilt_bracket_f2"/>
    <child link="gripper_bracket_f3"/>
    <origin rpy="1.57 1.57 0" xyz="0.025 0.025 0.0"/>
    <!--now-->
  </joint>
  <joint name="right_arm_gripper_servo" type="fixed">
    <parent link="gripper_bracket_f3"/>
    <child link="gripper_servo"/>
    <origin rpy="-1.57 0 1.57" xyz="0.0 0.02 0.02"/>
  </joint>
  <!-- gripper_joint-->
  <joint name="right_arm_gripper_joint" type="revolute">
    <parent link="gripper_servo"/>
    <child link="gripper_bracket_f2"/>
    <origin rpy="0 1.57 -1.57" xyz="0 0.0 0.0"/>
    <axis xyz="1 0 0"/>
    <limit effort="10" lower="-0.36" upper="0.28" velocity="0"/>
    <dynamics damping="0.0"/>
  </joint>
  <joint name="right_arm_finger_link_l" type="fixed">
    <parent link="gripper_servo"/>
    <child link="left_finger_link"/>
    <origin rpy="0 1.57 -1.57" xyz="0.03 0.04 0.0"/>
  </joint>
  <!-- moving finger   ############-->
  <joint name="right_arm_finger_link_r" type="fixed">
    <parent link="gripper_bracket_f2"/>
    <child link="right_finger_link"/>
    <origin rpy="0 0 0" xyz="0 0.03 0.03"/>
  </joint>
  <!--##########################left arm#############################-->
  <joint name="left_shoulder_link" type="fixed">
    <parent link="left_shoulder_pan"/>
    <child link="left_shoulder_gear"/>
    <origin rpy="0 0 0" xyz="-0.025 0.05 0.105"/>
  </joint>
  <joint name="left_arm_pan_joint" type="fixed">
    <!--revolute-->
    <parent link="upper_torso"/>
    <child link="left_shoulder_pan"/>
    <origin rpy="0  0 0" xyz="-0.04 0.22 0.0"/>
    <axis xyz="0 0 1"/>
    <limit effort="10" lower="-0.80" upper="0.80" velocity="0"/>
  </joint>
  <joint name="left_arm_tilt_joint" type="fixed">
    <!--revolute-->
    <parent link="left_shoulder_gear"/>
    <child link="left_shoulder_tilt"/>
    <origin rpy="0 0 0" xyz="0.02 -0.03 -0.03"/>
    <axis xyz="1 0 0"/>
    <limit effort="10" lower="-0.82" upper="0.0" velocity="0"/>
  </joint>
  <joint name="left_shoulder_lift_bracket_link" type="fixed">
    <parent link="left_shoulder_tilt"/>
    <child link="left_shoulder_bracket"/>
    <origin rpy="0 0 0" xyz="0.0 0.145 0.02"/>
  </joint>
  <joint name="left_shoulder_lift_gearbox_link" type="fixed">
    <parent link="left_shoulder_bracket"/>
    <child link="left_shoulder_lift"/>
    <origin rpy="0 0 0" xyz="0.03 0.005 -0.055"/>
  </joint>
  <joint name="left_arm_lift_joint" type="fixed">
    <!--revolute-->
    <parent link="left_shoulder_lift"/>
    <child link="left_shoulder_lift2"/>
    <origin rpy="0 0 0" xyz="-0.025 -0.03 0.035"/>
    <!--rpy="0 -1.57 0"-->
    <axis xyz="0 1 0"/>
    <limit effort="10" lower="-1.1" upper="1.9" velocity="0"/>
  </joint>
  <joint name="left_shoulder_mid_link" type="fixed">
    <parent link="left_shoulder_lift2"/>
    <child link="left_shoulder_mid"/>
    <origin rpy="0 0 0" xyz="-0.067 0.07 -0.093"/>
  </joint>
  <joint name="left_arm_rotate_joint" type="fixed">
    <!--revolute-->
    <parent link="left_shoulder_mid"/>
    <child link="left_shoulder_lower"/>
    <origin rpy="0 0 0" xyz="0.07 -0.06 -0.131"/>
    <axis xyz="0 0 1"/>
    <limit effort="10" lower="-2.00" upper="1.57" velocity="0"/>
  </joint>
  <joint name="left_shoulder_elbow_link" type="fixed">
    <parent link="left_shoulder_lower"/>
    <child link="left_shoulder_elbow"/>
    <origin rpy="0 0 0" xyz="0.05 -0.05 0"/>
  </joint>
  <joint name="left_elbow_gearbox_link" type="fixed">
    <parent link="left_shoulder_elbow"/>
    <child link="left_elbow_gearbox"/>
    <origin rpy="0 0 0" xyz="-0.09 0.08 -0.13"/>
  </joint>
  <joint name="left_arm_elbow_joint" type="fixed">
    <!--revolute-->
    <parent link="left_elbow_gearbox"/>
    <child link="left_elbow"/>
    <origin rpy="0 -1.57 0" xyz="0.03 -0.02 0.025"/>
    <axis xyz="0 1 0"/>
    <limit effort="10" lower="-2.0" upper="0.57" velocity="0"/>
  </joint>
  <joint name="left_arm_forearm_link" type="fixed">
    <parent link="left_elbow"/>
    <child link="left_forearm_link"/>
    <origin rpy="1.57 0 0" xyz="-0.08 -0.0 -0.0"/>
  </joint>
  <!--left_arm_wrist_pan_joint-->
  <joint name="left_arm_wrist_pan_bracket" type="fixed">
    <parent link="left_forearm_link"/>
    <child link="left_wrist_pan_servo"/>
    <origin rpy="0 0 1.57" xyz="-0.21 0.0 0.0"/>
  </joint>
  <joint name="left_arm_wrist_pan_joint" type="fixed">
    <!--revolute-->
    <parent link="left_wrist_pan_servo"/>
    <child link="left_wrist_pan_servo_bracket_f3"/>
    <origin rpy="0 0 0" xyz="0. 0.015 0.0"/>
    <axis xyz="0 1 0"/>
    <limit effort="10" lower="-2.61" upper="2.61" velocity="0"/>
    <dynamics damping="0.0"/>
  </joint>
  <joint name="left_arm_wrist_tilt_bracket" type="fixed">
    <parent link="left_wrist_pan_servo_bracket_f3"/>
    <child link="left_wrist_tilt_servo"/>
    <origin rpy="0 0 0" xyz="0.04 0 0.0"/>
    <axis xyz="1 0 0"/>
  </joint>
  <!--wrist_tilt_joint-->
  <joint name="left_arm_wrist_tilt_joint" type="fixed">
    <!--revolute-->
    <parent link="left_wrist_tilt_servo"/>
    <child link="left_wrist_tilt_bracket_f2"/>
    <origin rpy="0 0 0" xyz="-0.04 0.05 0"/>
    <axis xyz="0 0 1"/>
    <limit effort="10" lower="-1.57" upper="1.57" velocity="0"/>
    <dynamics damping="0.0"/>
  </joint>
  <joint name="left_arm_gripper_bracket" type="fixed">
    <parent link="left_wrist_tilt_bracket_f2"/>
    <child link="left_gripper_bracket_f3"/>
    <origin rpy="0 0 0" xyz="0.0 0.025 0.015"/>
  </joint>
  <joint name="left_arm_gripper_servo" type="fixed">
    <parent link="left_gripper_bracket_f3"/>
    <child link="left_gripper_servo"/>
    <origin rpy="0 3.14 0" xyz="0.0 0.02 -0.02"/>
  </joint>
  <!-- left gripper_joint-->
  <joint name="left_arm_gripper_joint" type="fixed">
    <!--revolute-->
    <parent link="left_gripper_servo"/>
    <child link="left_gripper_bracket_f2"/>
    <origin rpy="0 0 0" xyz="0 0.0 0.0"/>
    <axis xyz="1 0 0"/>
    <limit effort="10" lower="-0.36" upper="0.28" velocity="0"/>
    <dynamics damping="0.0"/>
  </joint>
  <joint name="left_arm_finger_link_l" type="fixed">
    <parent link="left_gripper_servo"/>
    <child link="left_left_finger_link"/>
    <origin rpy="0 0 0" xyz="0. 0.03 -0.04"/>
  </joint>
  <joint name="left_arm_finger_link_r" type="fixed">
    <parent link="left_gripper_bracket_f2"/>
    <child link="left_right_finger_link"/>
    <origin rpy="0 0 0" xyz="0 0.03 0.03"/>
  </joint>
  <!-- #####################################Head joints#########################################-->
  <joint name="head_tilt_servo" type="fixed">
    <parent link="upper_torso"/>
    <child link="head_tilt_bracket"/>
    <origin rpy="0 0 0" xyz="-0.05 0.135 0.15"/>
  </joint>
  <!-- Head tilt joint-->
  <joint name="head_tilt_mod_joint" type="revolute">
    <parent link="head_tilt_bracket"/>
    <child link="head_tilt_link"/>
    <origin rpy="0 0 0" xyz="0 0 0.0"/>
    <axis xyz="0 1 0"/>
    <limit effort="10" lower="-2.6" upper="2.6" velocity="0"/>
    <dynamics damping="0.0"/>
  </joint>
  <!-- Head tilt joint fake-->
  <joint name="head_tilt_joint" type="revolute">
    <parent link="head_tilt_bracket"/>
    <child link="head_link_fake"/>
    <origin rpy="0 0 0" xyz="0 0 0.0"/>
    <axis xyz="0 1 0"/>
    <limit effort="10" lower="-2.6" upper="2.6" velocity="0"/>
    <dynamics damping="0.0"/>
  </joint>
  <joint name="head_pan_servo" type="fixed">
    <parent link="head_tilt_link"/>
    <child link="head_pan_bracket"/>
    <origin rpy="0 0 0" xyz="-0.0 0 0.04"/>
  </joint>
  <!-- head_pan_joint-->
  <joint name="head_pan_joint" type="revolute">
    <parent link="head_pan_bracket"/>
    <child link="head_pan_link"/>
    <origin rpy="0 0 0" xyz="0.0 0 0.02"/>
    <origin rpy="0 0 0" xyz="0 0 0.0"/>
    <axis xyz="0 0 1"/>
    <limit effort="10" lower="-2" upper="2" velocity="0"/>
    <dynamics damping="0.0"/>
  </joint>
  <joint name="head_neck_link" type="fixed">
    <parent link="head_pan_link"/>
    <child link="neck_link"/>
    <origin rpy="0 0 0" xyz="-0.04 0 0.0"/>
  </joint>
  <joint name="neck_joint" type="fixed">
    <parent link="neck_link"/>
    <child link="head_base_link"/>
    <origin rpy="0 0 0" xyz="0.02 0 0.0"/>
  </joint>
  <joint name="head_joint" type="fixed">
    <parent link="head_base_link"/>
    <child link="head_link"/>
    <origin rpy="0 0 0" xyz="-0.02 -0.097 -0.45"/>
  </joint>
  <joint name="kinect_joint" type="fixed">
    <parent link="base_link"/>
    <child link="kinect_link"/>
    <origin rpy="0 0 0" xyz="0.2 0 0.26"/>
  </joint>
  <joint name="kinect_depth_joint" type="fixed">
    <origin rpy="0 0 0" xyz="0 0.018 0"/>
    <parent link="kinect_link"/>
    <child link="kinect_depth_frame"/>
  </joint>
  <link name="kinect_depth_frame">
    <inertial>
      <mass value="0.0001"/>
      <origin xyz="0 0 0"/>
      <inertia ixx="0.0001" ixy="0.0" ixz="0.0" iyy="0.0001" iyz="0.0" izz="0.0001"/>
    </inertial>
  </link>
  <joint name="kinect_depth_optical_joint" type="fixed">
    <origin rpy="-1.570795 0 -1.570795" xyz="0 0 0"/>
    <parent link="kinect_link"/>
    <child link="kinect_depth_optical_frame"/>
  </joint>
  <link name="kinect_depth_optical_frame">
    <inertial>
      <mass value="0.0001"/>
      <origin xyz="0 0 0"/>
      <inertia ixx="0.0001" ixy="0.0" ixz="0.0" iyy="0.0001" iyz="0.0" izz="0.0001"/>
    </inertial>
  </link>
  <joint name="kinect_rgb_optical_joint" type="fixed">
    <origin rpy="-1.570795 0 -1.570795" xyz="0 0 0"/>
    <parent link="kinect_depth_optical_frame"/>
    <child link="kinect_rgb_optical_frame"/>
  </joint>
  <link name="kinect_rgb_optical_frame">
    <inertial>
      <mass value="0.001"/>
      <origin xyz="0 0 0"/>
      <inertia ixx="0.0001" ixy="0.0" ixz="0.0" iyy="0.0001" iyz="0.0" izz="0.0001"/>
    </inertial>
  </link>
  <joint name="head_cam_joint" type="fixed">
    <parent link="head_link"/>
    <child link="head_cam_link"/>
    <origin rpy="0 0 0" xyz="0.15 0.1 0.58"/>
  </joint>
  <joint name="head_cam_depth_joint" type="fixed">
    <origin rpy="0 0 0" xyz="0 0.018 0"/>
    <parent link="head_cam_link"/>
    <child link="head_cam_depth_frame"/>
  </joint>
  <link name="head_cam_depth_frame">
    <inertial>
      <mass value="0.0001"/>
      <origin xyz="0 0 0"/>
      <inertia ixx="0.0001" ixy="0.0" ixz="0.0" iyy="0.0001" iyz="0.0" izz="0.0001"/>
    </inertial>
  </link>
  <joint name="head_cam_depth_optical_joint" type="fixed">
    <origin rpy="-1.570795 0 -1.570795" xyz="0 0 0"/>
    <parent link="head_cam_link"/>
    <child link="head_cam_depth_optical_frame"/>
  </joint>
  <link name="head_cam_depth_optical_frame">
    <inertial>
      <mass value="0.0001"/>
      <origin xyz="0 0 0"/>
      <inertia ixx="0.0001" ixy="0.0" ixz="0.0" iyy="0.0001" iyz="0.0" izz="0.0001"/>
    </inertial>
  </link>
  <joint name="head_cam_rgb_optical_joint" type="fixed">
    <origin rpy="-1.570795 0 -1.570795" xyz="0 0 0"/>
    <parent link="head_cam_depth_optical_frame"/>
    <child link="head_cam_rgb_optical_frame"/>
  </joint>
  <link name="head_cam_rgb_optical_frame">
    <inertial>
      <mass value="0.001"/>
      <origin xyz="0 0 0"/>
      <inertia ixx="0.0001" ixy="0.0" ixz="0.0" iyy="0.0001" iyz="0.0" izz="0.0001"/>
    </inertial>
  </link>
  <gazebo reference="robbie">
  	</gazebo>
</robot>
